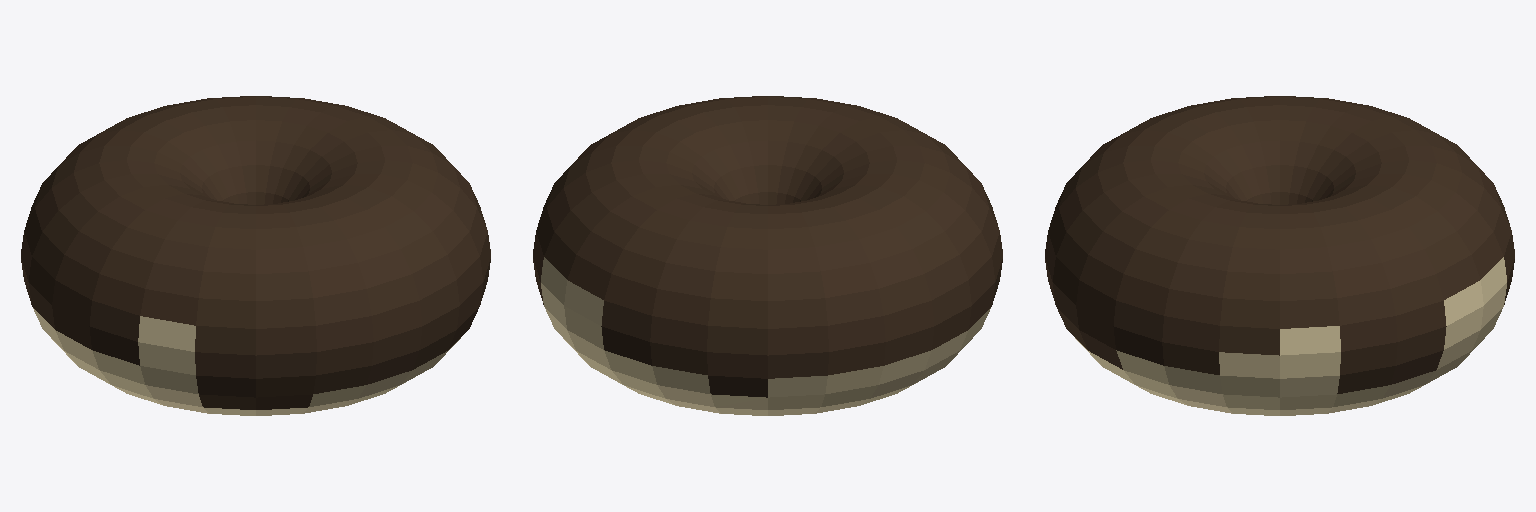
The model's file is donut2.obj.
3 views of the same model, side by side, from view 1: azimuth 30°, elevation 25°; view 2: azimuth 150°, elevation 25°; view 3: azimuth 270°, elevation 25° (orthographic).
Visible parts, largest first — view 1: Mesh1 Group1 Model; view 2: Mesh1 Group1 Model; view 3: Mesh1 Group1 Model.
Boxes of the visible parts, x1=… form: Mesh1 Group1 Model: x1=21, y1=96, x2=490, y2=415; Mesh1 Group1 Model: x1=533, y1=96, x2=1002, y2=415; Mesh1 Group1 Model: x1=1045, y1=96, x2=1514, y2=415.
Size of the model in its own units: 4.44 by 2 by 4.44.